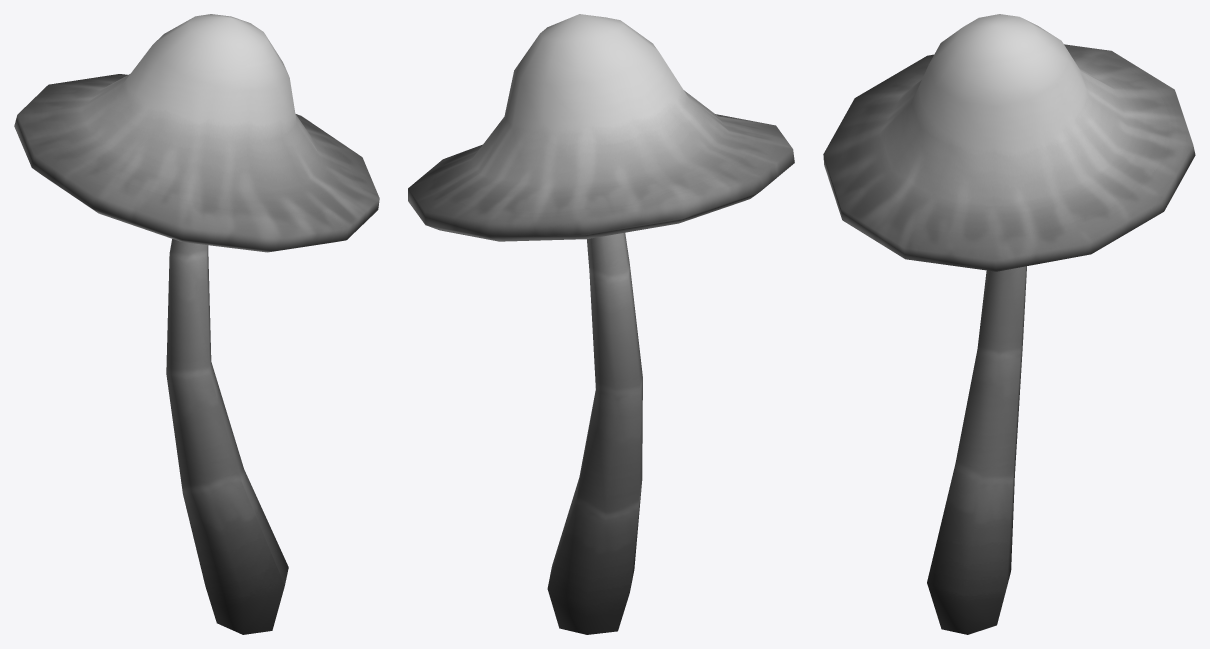
The model's file is Cave mushroom large.FBX.
3 views of the same model, side by side, from view 1: azimuth 30°, elevation 25°; view 2: azimuth 150°, elevation 25°; view 3: azimuth 270°, elevation 25° (orthographic). The views are drawn at different scales.
Size of the model in its own units: 2.87 by 5.16 by 2.92.
